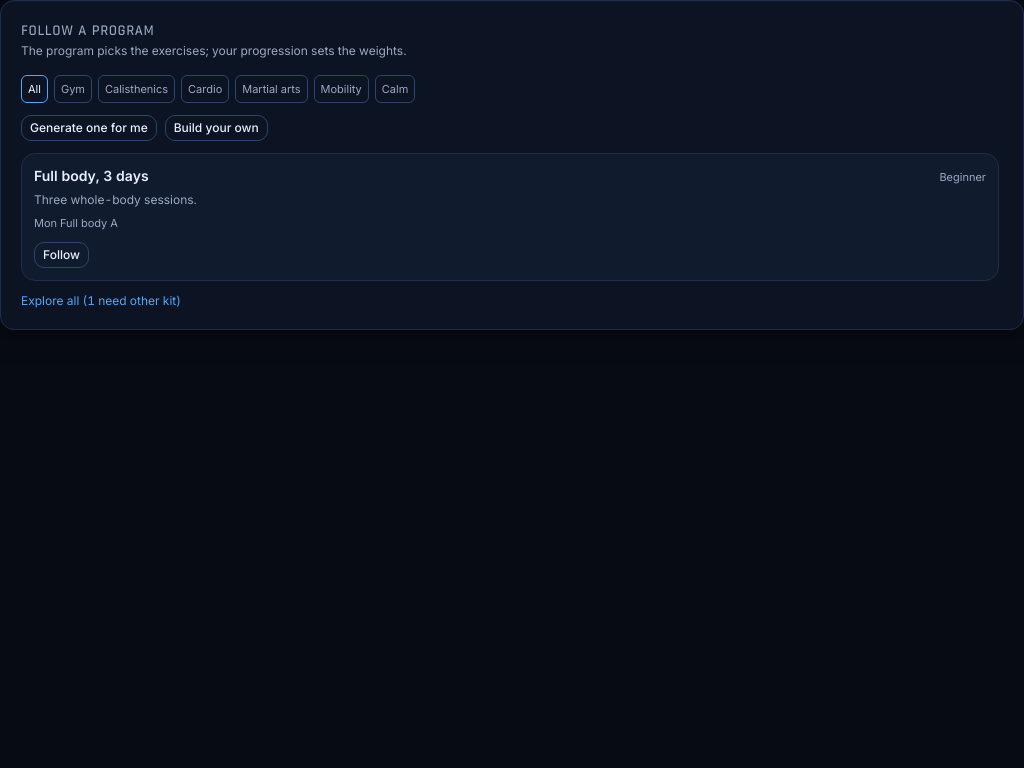
ProgramCard › offers the catalog when no program is followed, and follows one
Expected: the element "Follow a program" is shown, 0,0 -> 1023,330
Expected: the text "Needs equipment you didn't list at setup." is not shown
Click the button "Explore all (1 need other kit)". click: (101, 301)
box: 21,293 -> 181,309
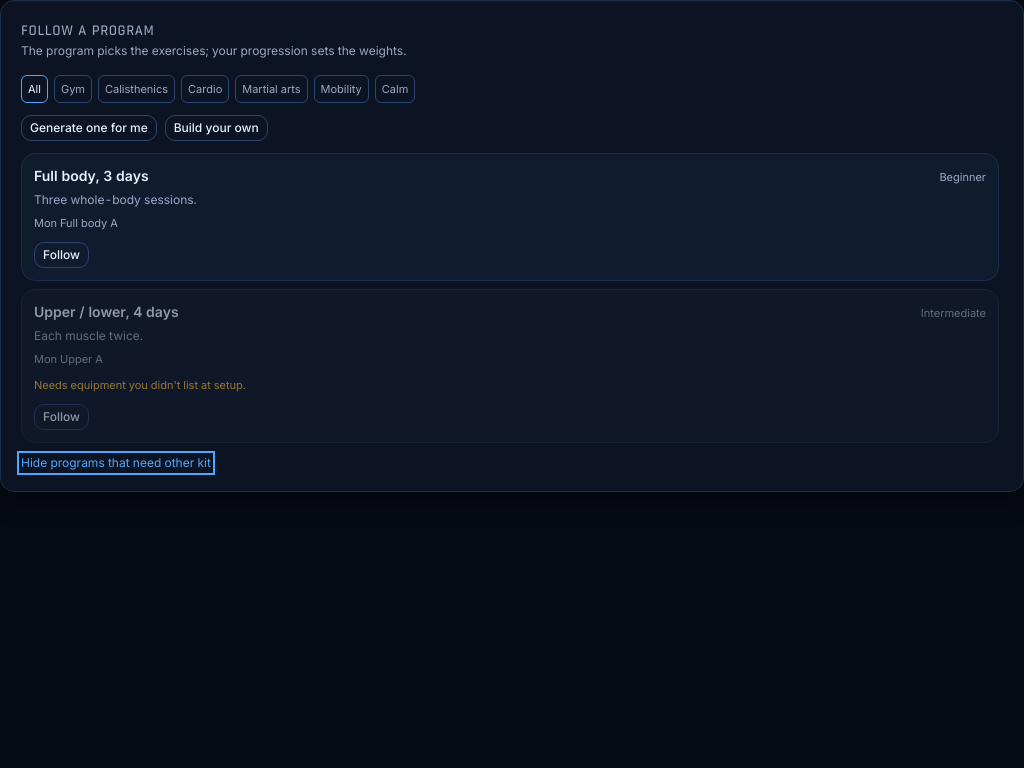
Expected: the text "Needs equipment you didn't list at setup." is shown, 34,378 -> 246,392
Click the button with aria-label "Follow Full body, 3 days". click: (61, 255)
box: 34,242 -> 89,268
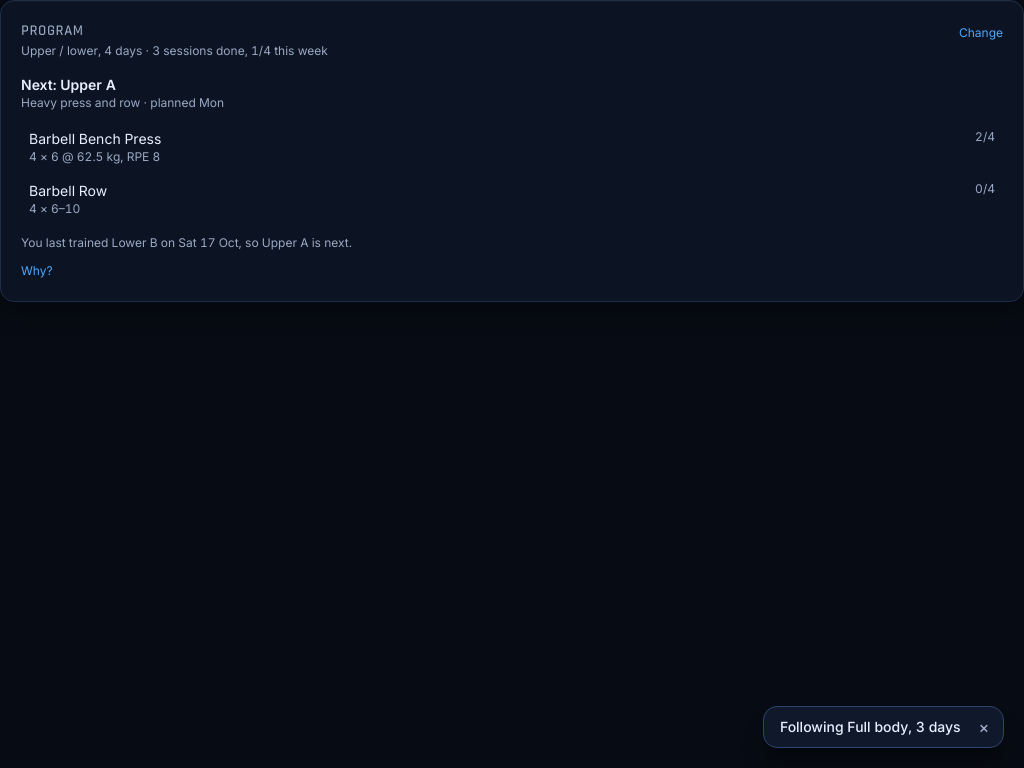
Expected: the list named "Upper A exercises" is shown, 21,123 -> 1003,223
